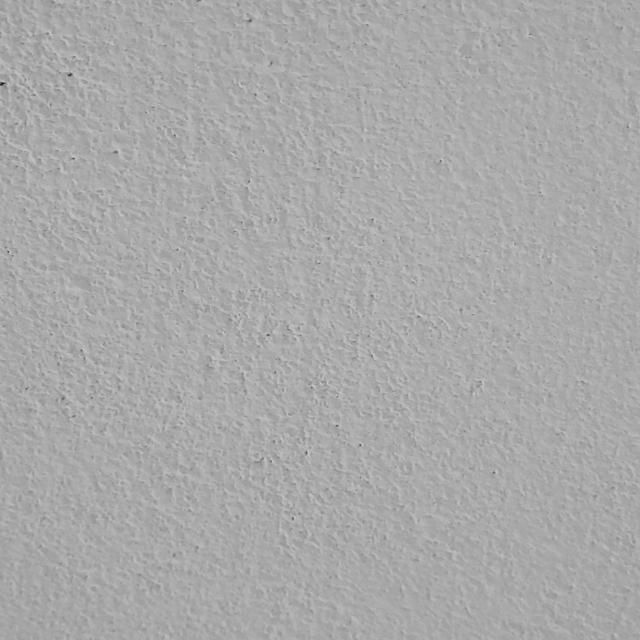rough and patchy surface: (3, 4, 629, 629)
